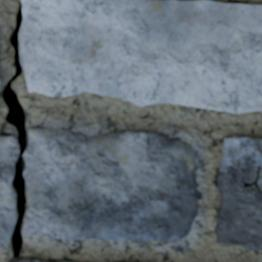brick: (20, 0, 261, 112), (215, 136, 261, 249), (9, 258, 45, 261)
broken_brick: (25, 127, 198, 242), (0, 135, 18, 243)
crack: (0, 2, 32, 259), (243, 164, 261, 193)
